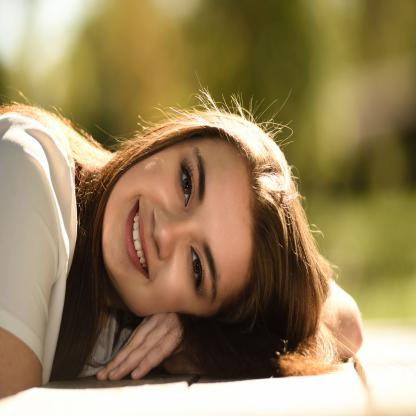Eye: (182, 236, 211, 296), (172, 161, 200, 210)
Mouth: (120, 202, 155, 277)
Nose: (148, 199, 200, 257)
